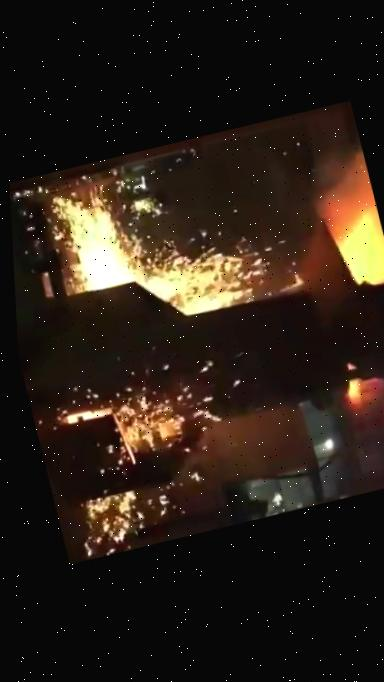fire: (25, 46, 384, 588)
